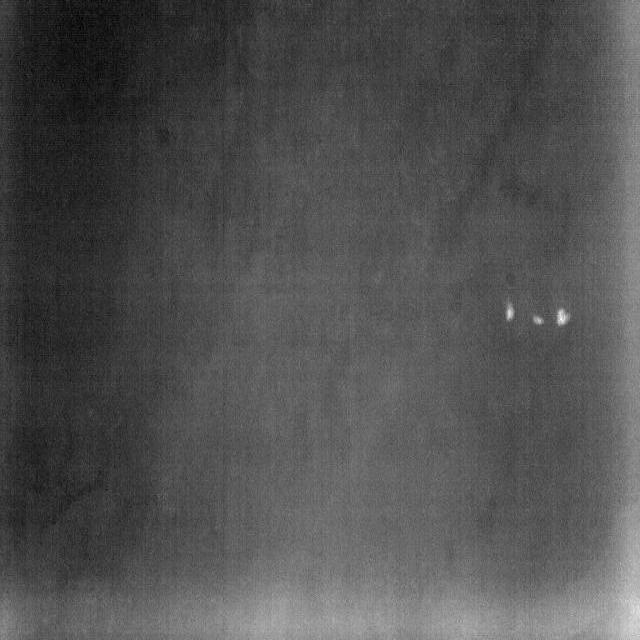deer: (556, 308, 572, 326), (506, 301, 516, 322), (533, 316, 545, 325)
